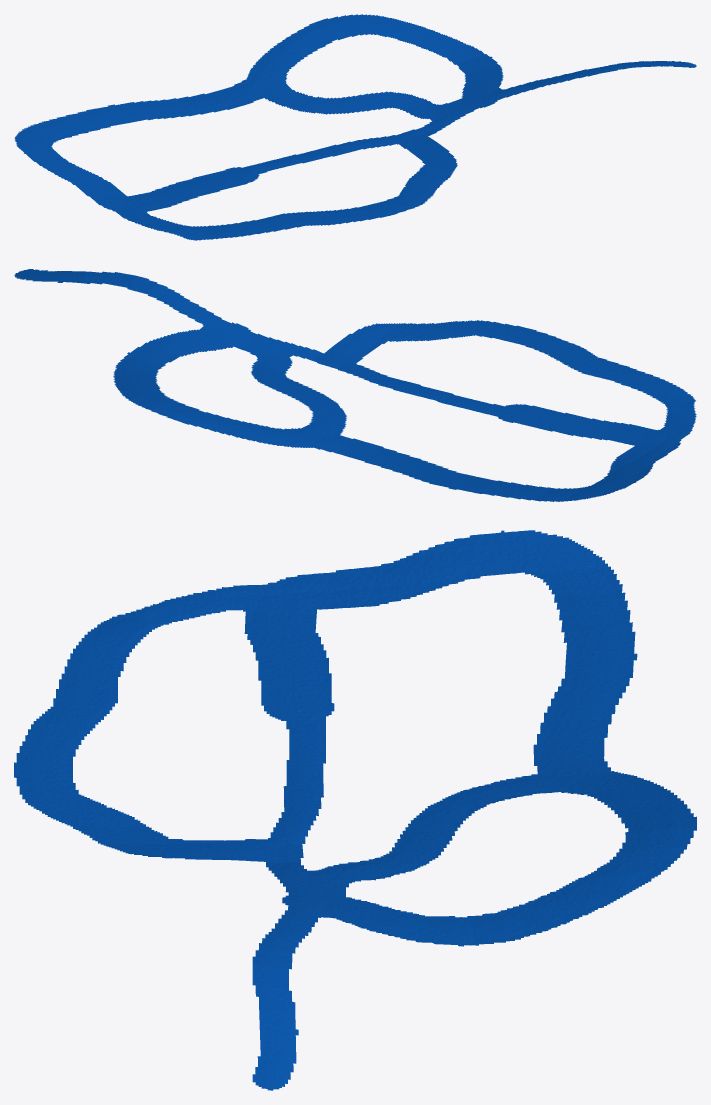
The model's file is Water.fbx.
3 views of the same model, one above another, from view 1: azimuth 30°, elevation 25°; view 2: azimuth 150°, elevation 25°; view 3: azimuth 270°, elevation 25° (orthographic). The views are drawn at different scales.
Parts seen in each view (by area): view 1: Water; view 2: Water; view 3: Water.
Part boxes in pixels (bbox=[...]): Water: bbox=[14, 14, 696, 240]; Water: bbox=[14, 269, 696, 501]; Water: bbox=[14, 530, 696, 1090].
Size of the model in its own units: 69356 by 3301 by 37254.
